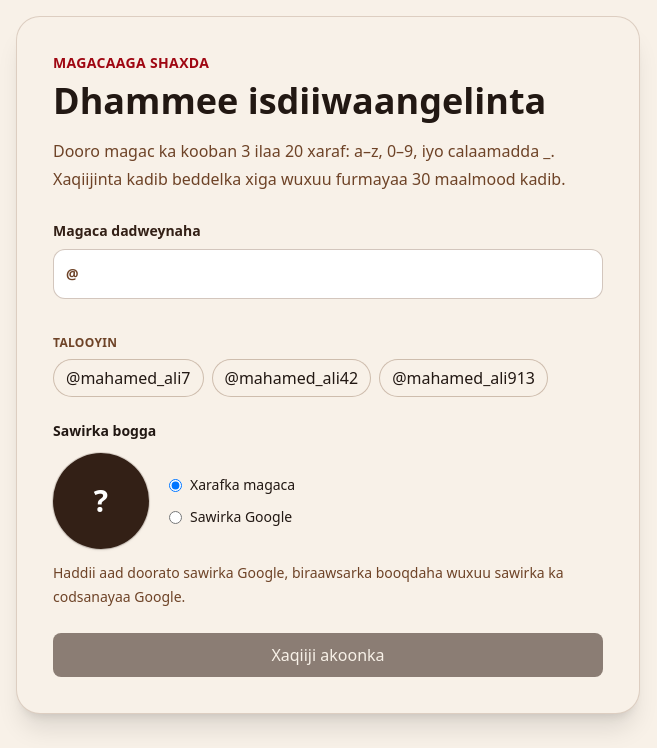
/register username selection › accepts a manually typed username without suggesting over it
The width and height of the screenshot is (657, 748).
Type "cabdi_shaxda" into the field.
click(340, 274); type("cabdi_shaxda")  # box x1=79 y1=250 x2=602 y2=298
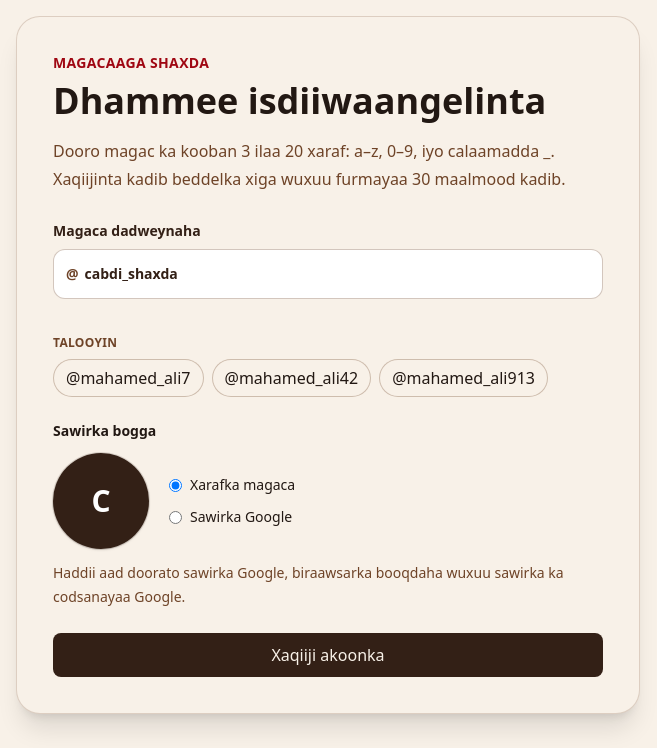
Expected: the button "Xaqiiji akoonka" is enabled, x1=53 y1=633 x2=603 y2=677
